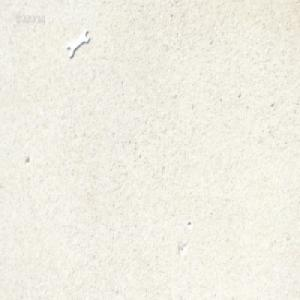Wrench: (66, 26, 89, 58)
